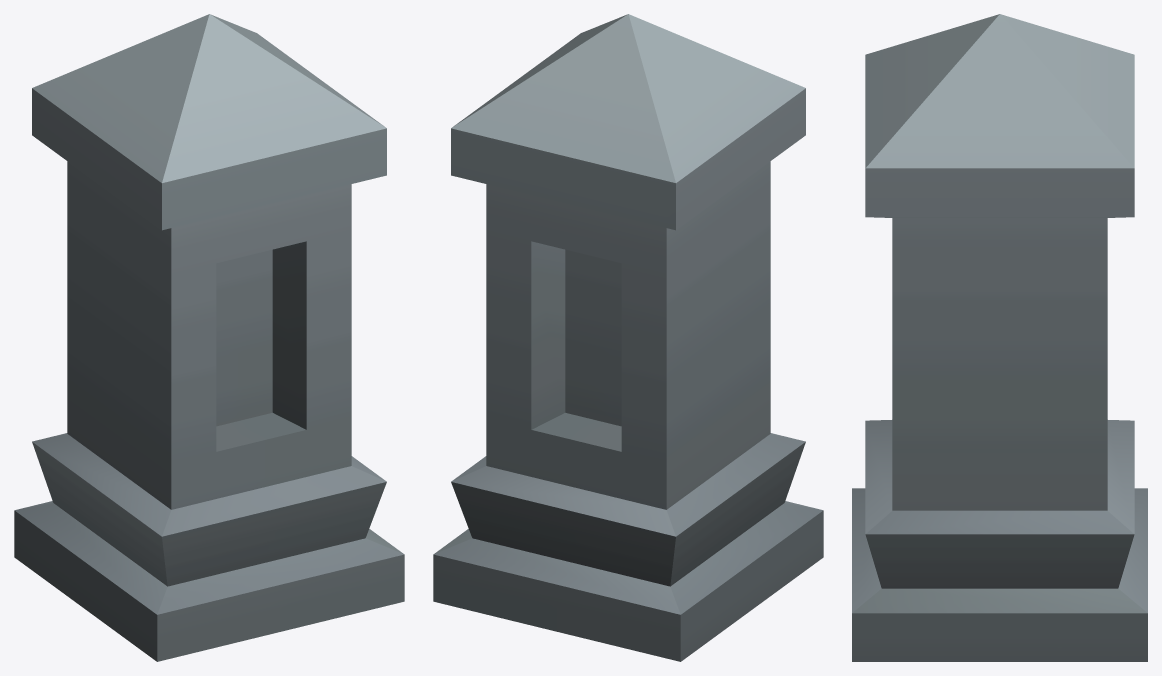
The model's file is shrine.glb.
3 renders of one model, left to right at view 1: azimuth 30°, elevation 25°; view 2: azimuth 150°, elevation 25°; view 3: azimuth 270°, elevation 25°, orthographic. The views are drawn at different scales.
Visible parts, largest first — view 1: shrine; view 2: shrine; view 3: shrine.
Boxes of the visible parts, x1,y1,x2,y2 form: shrine: (14,14,404,661); shrine: (433,14,823,661); shrine: (852,14,1147,661).
Size of the model in its own units: 1.1 by 2.4 by 1.1.
1 material, 1 textured.
